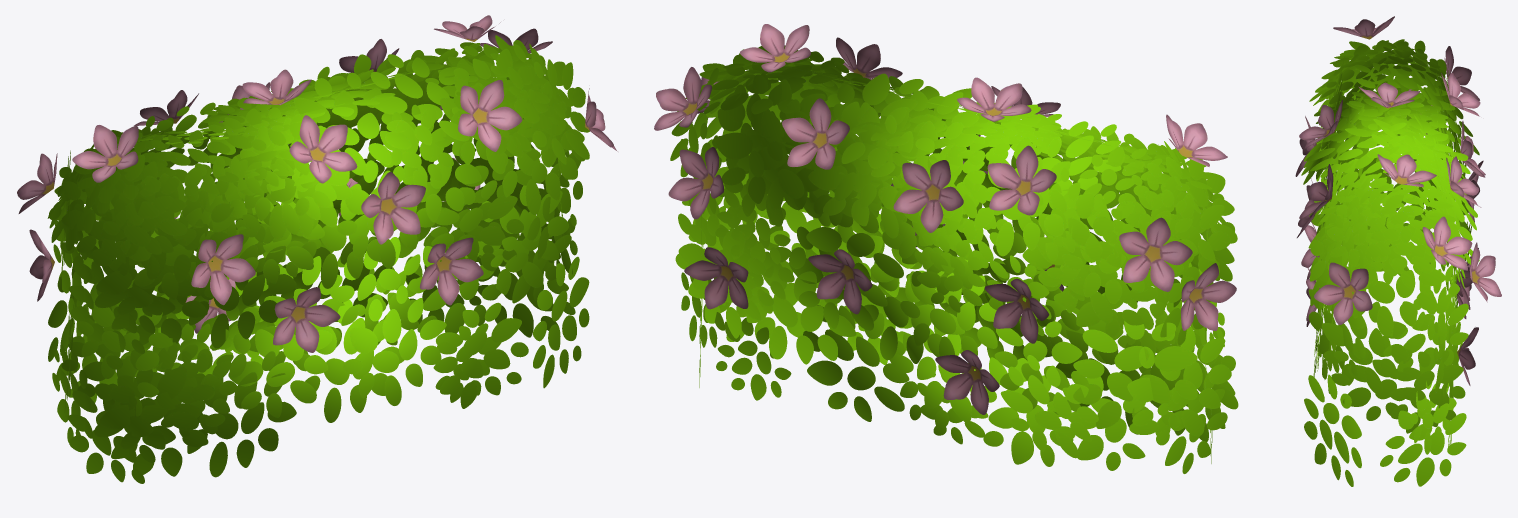
Rendered from q_hedge_bush_flowers.glb.
The picture shows the model from 3 angles, left to right: view 1: azimuth 30°, elevation 25°; view 2: azimuth 150°, elevation 25°; view 3: azimuth 270°, elevation 25°; orthographic projection. The views are drawn at different scales.
Parts seen in each view (by area): view 1: Bush_Large_Flowers; view 2: Bush_Large_Flowers; view 3: Bush_Large_Flowers.
Part boxes in pixels (x1,y1,x2,y2): Bush_Large_Flowers: [17, 15, 617, 483]; Bush_Large_Flowers: [654, 24, 1238, 473]; Bush_Large_Flowers: [1295, 16, 1501, 486].
Bounding box in the file's own units: 2.07 × 1.35 × 0.8175.
2 materials, 2 textured.
